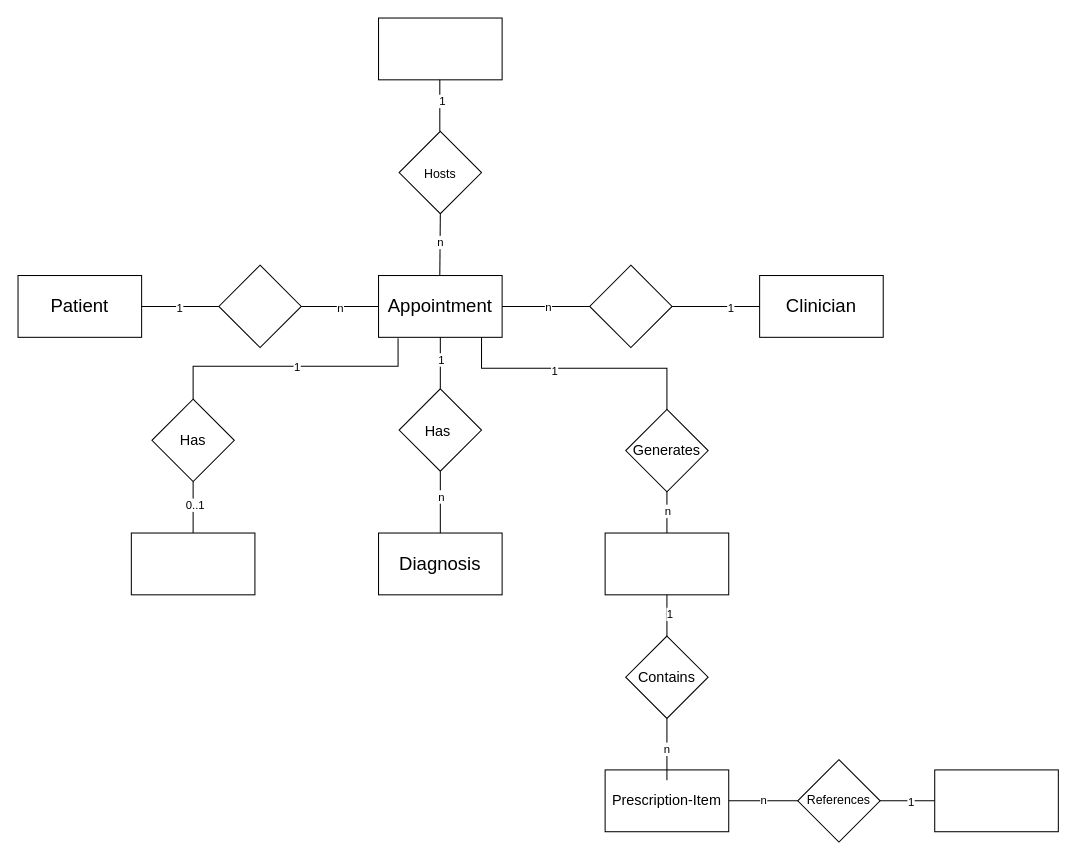
Image size: 1076x860. Some labels were removed from this diagram. The shapes that lost their labels are listed below. From the top down, each one's centre as x and y in pixels, then its label:
point (439, 48): Clinic
point (259, 306): Books
point (630, 306): Conducts
point (192, 563): FollowUpPlan
point (666, 563): Prescription
point (996, 800): Medicine
